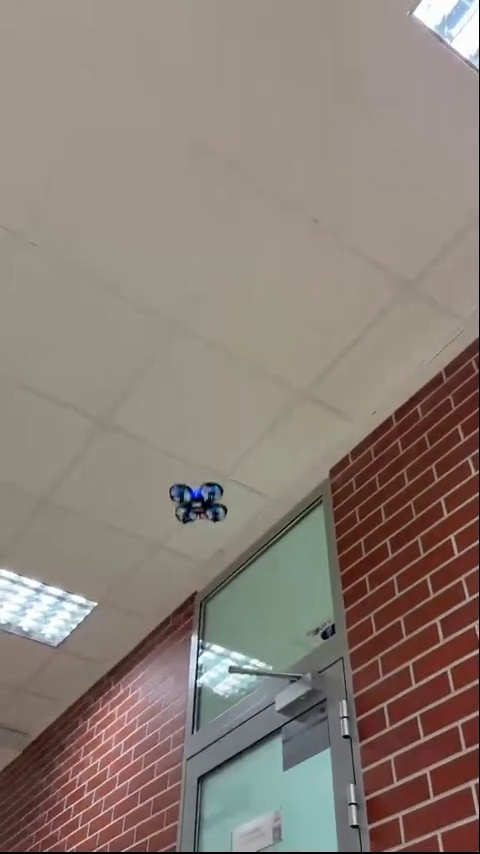drone: (167, 482, 225, 524)
